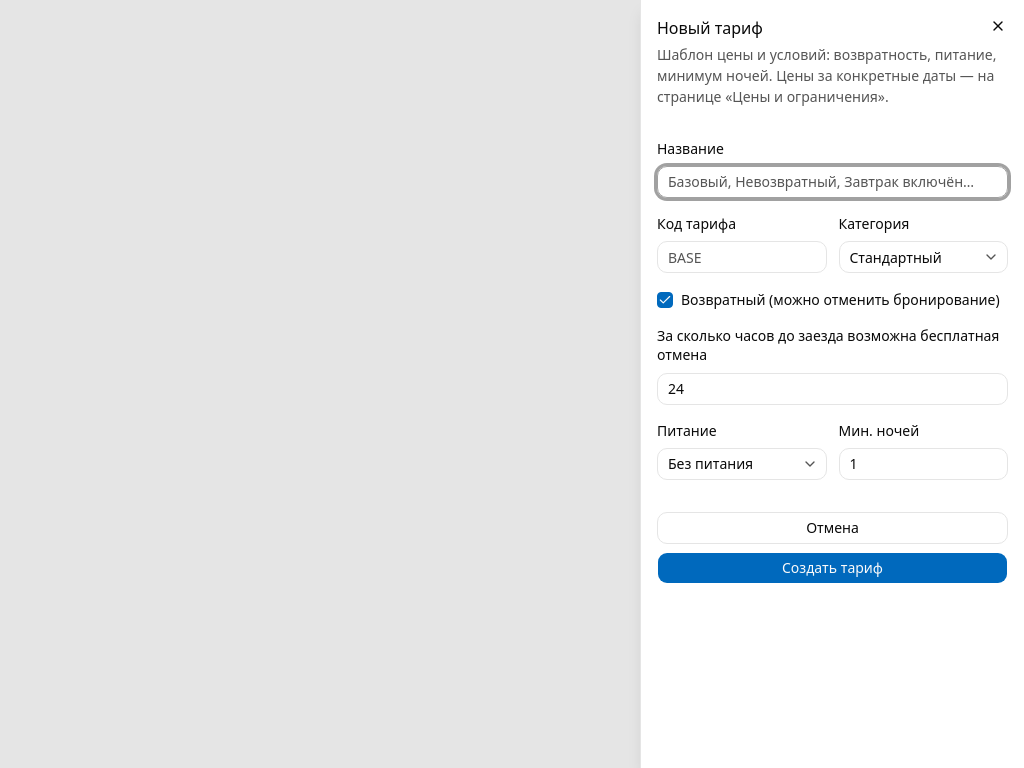
Scenario: RatePlanFormSheet — inline-bounds (B5) › [B2] minStay=31 surfaces «Не больше 30»
Replace the text in the number field labelled "Мин. ночей" with "31" at (923, 464), box left=838, top=448, right=1008, bottom=480
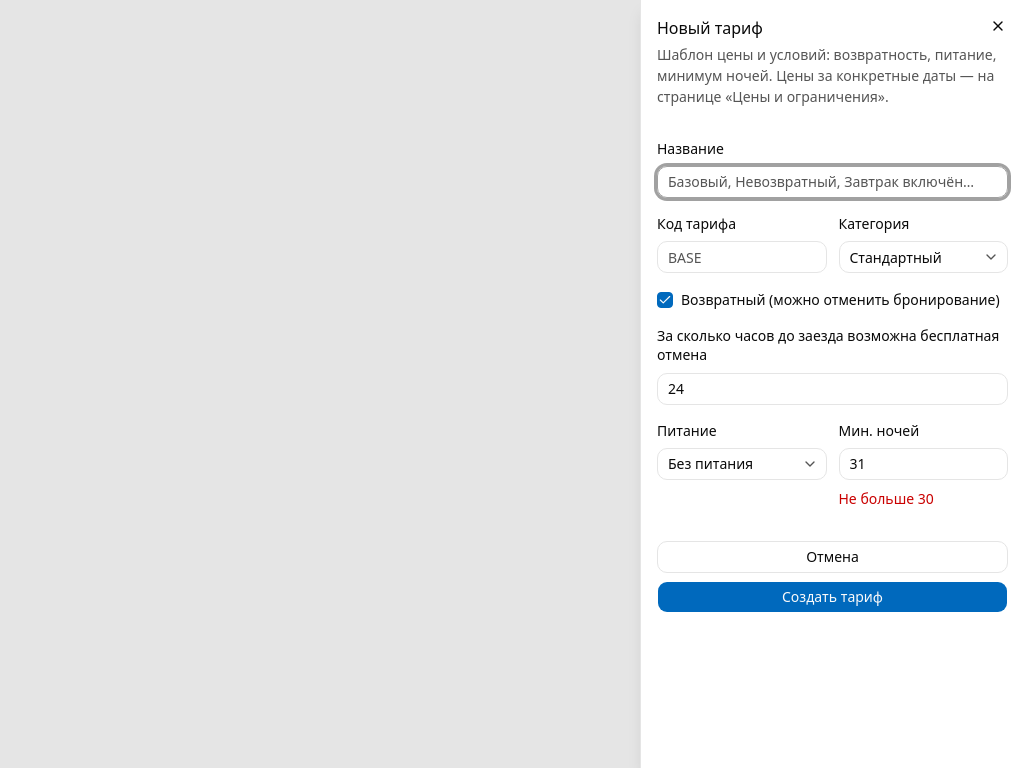
Expected: the text "Не больше 30" is shown, left=838, top=489, right=934, bottom=508
